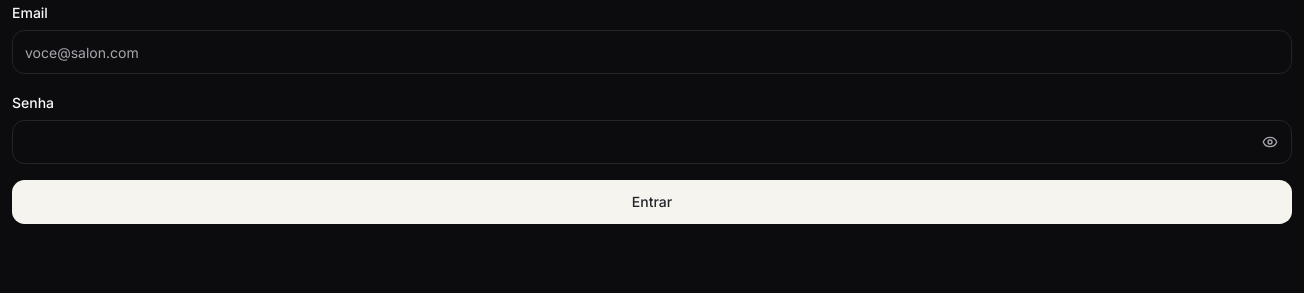
Test: panel login feedback › shows a safe, specific message for LOGIN_RATE_LIMITED without navigating
Type "owner@example.com" into the field labelled "Email".
click(652, 52); type("owner@example.com")  # box [12, 30, 1292, 74]
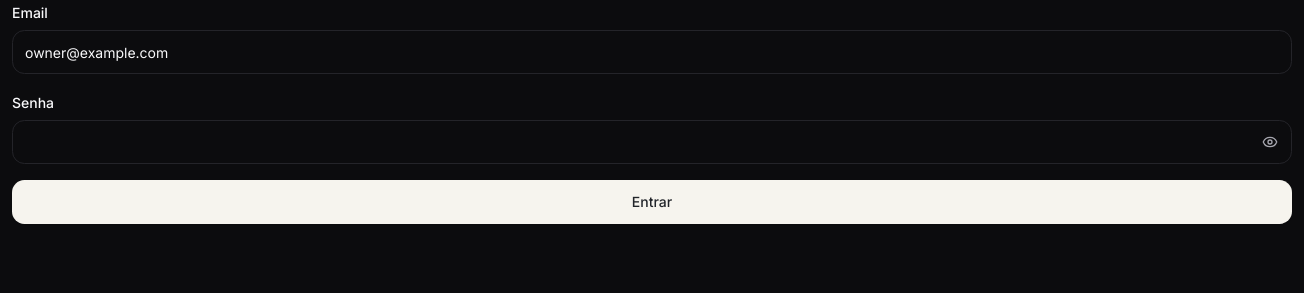
Type "Password123" into the password field labelled "Senha".
click(652, 142); type("Password123")  # box [12, 120, 1292, 164]
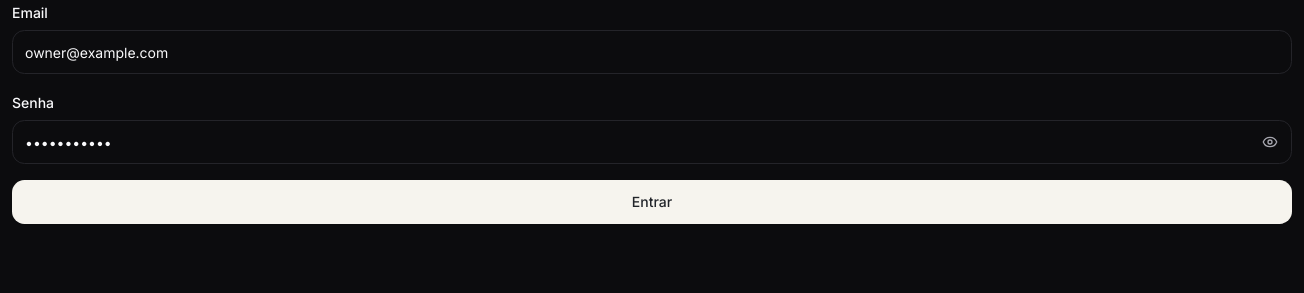
Submit the form "Entrar"
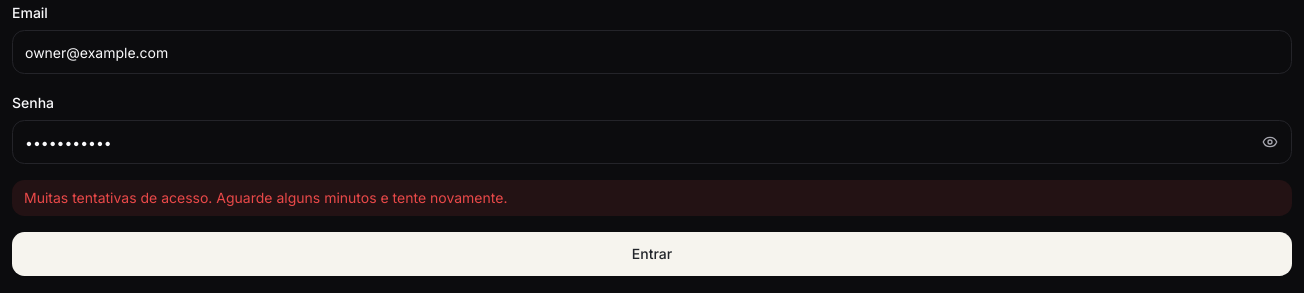
Expected: the button "Entrar" is enabled, [12, 232, 1292, 276]
Result: the message reads "Muitas tentativas de acesso. Aguarde alguns minutos e tente novamente." at [24, 189, 507, 206]
